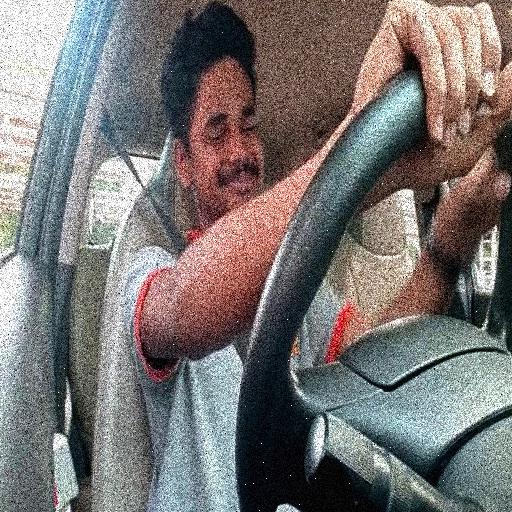Closed Eye: (164, 12, 269, 327)
